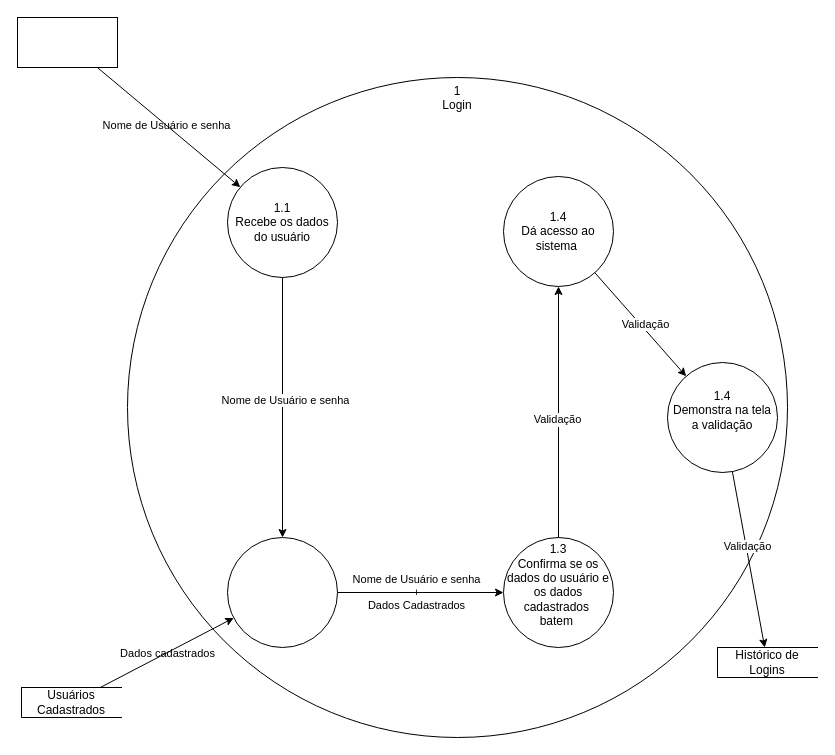
Image size: 835x755. Some labels were removed from this diagram. The shapes that lost their labels are listed below. From the top down, each one's box as (x1, y1, x2, y2) in pixels, then its label:
(16, 16, 118, 68): Todos
(226, 536, 338, 648): 1.2 Validação dos dados
